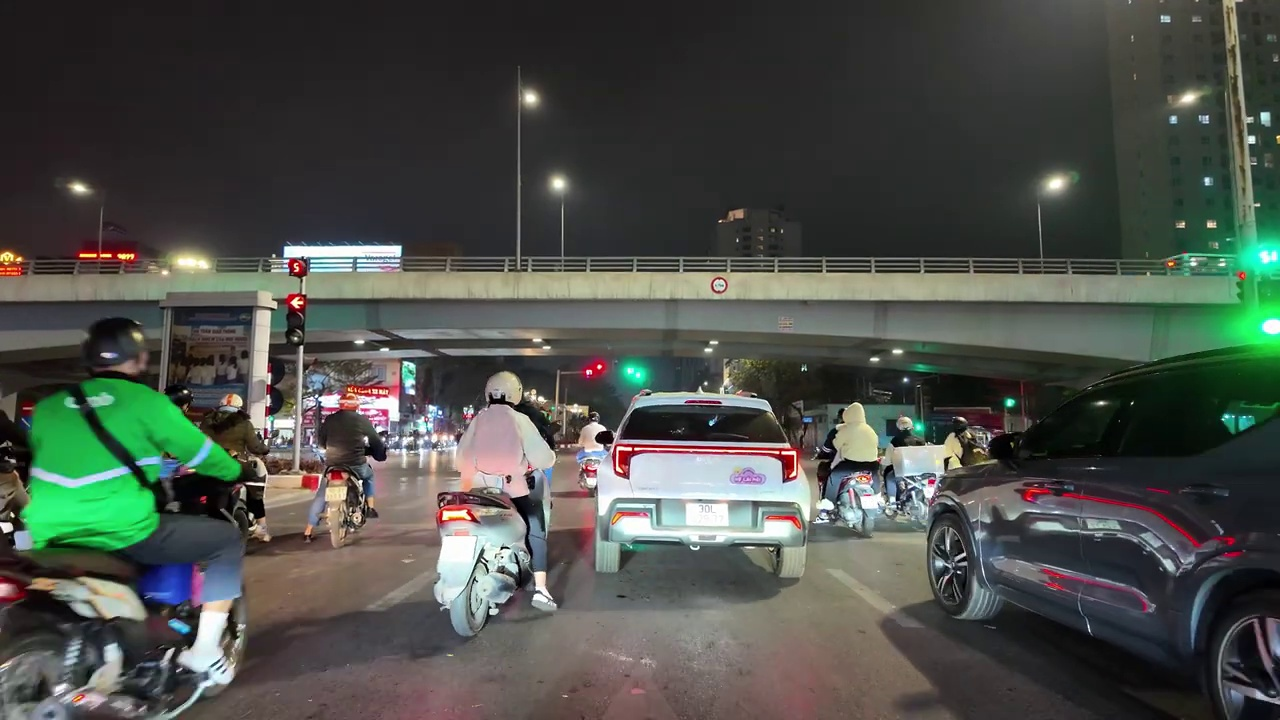acesa: (174, 251, 212, 278), (545, 171, 572, 198), (1041, 171, 1069, 197), (67, 177, 94, 201), (1172, 88, 1200, 110), (519, 89, 542, 110)
